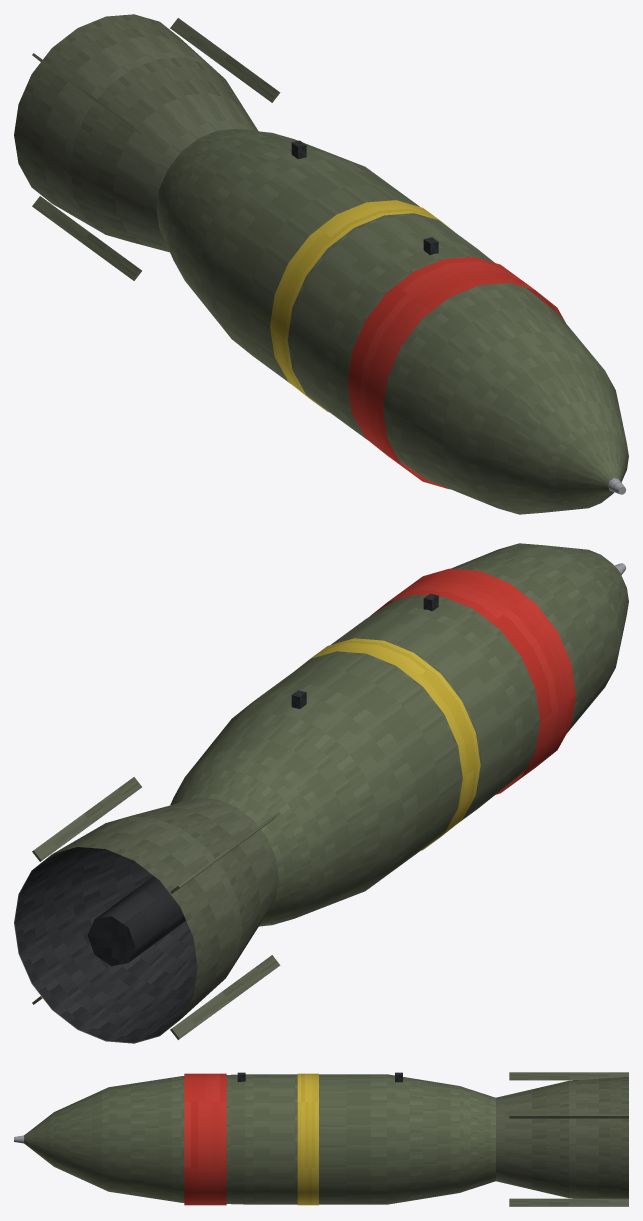
Rendered from fab5000.glb.
3 renders of one model, top to bottom at view 1: azimuth 30°, elevation 25°; view 2: azimuth 150°, elevation 25°; view 3: azimuth 270°, elevation 25°, orthographic. The views are drawn at different scales.
Visible parts, largest first — view 1: body, tail; view 2: body, tail; view 3: body, tail.
Part boxes in pixels (x1=…): body: x1=156, y1=129, x2=628, y2=514; tail: x1=14, y1=14, x2=280, y2=280; body: x1=170, y1=543, x2=628, y2=926; tail: x1=14, y1=777, x2=280, y2=1043; body: x1=14, y1=1072, x2=495, y2=1205; tail: x1=496, y1=1072, x2=628, y2=1206.
Size of the model in its own units: 1.01 by 1.05 by 4.67.
Materials: 1 (1 with a texture image).
